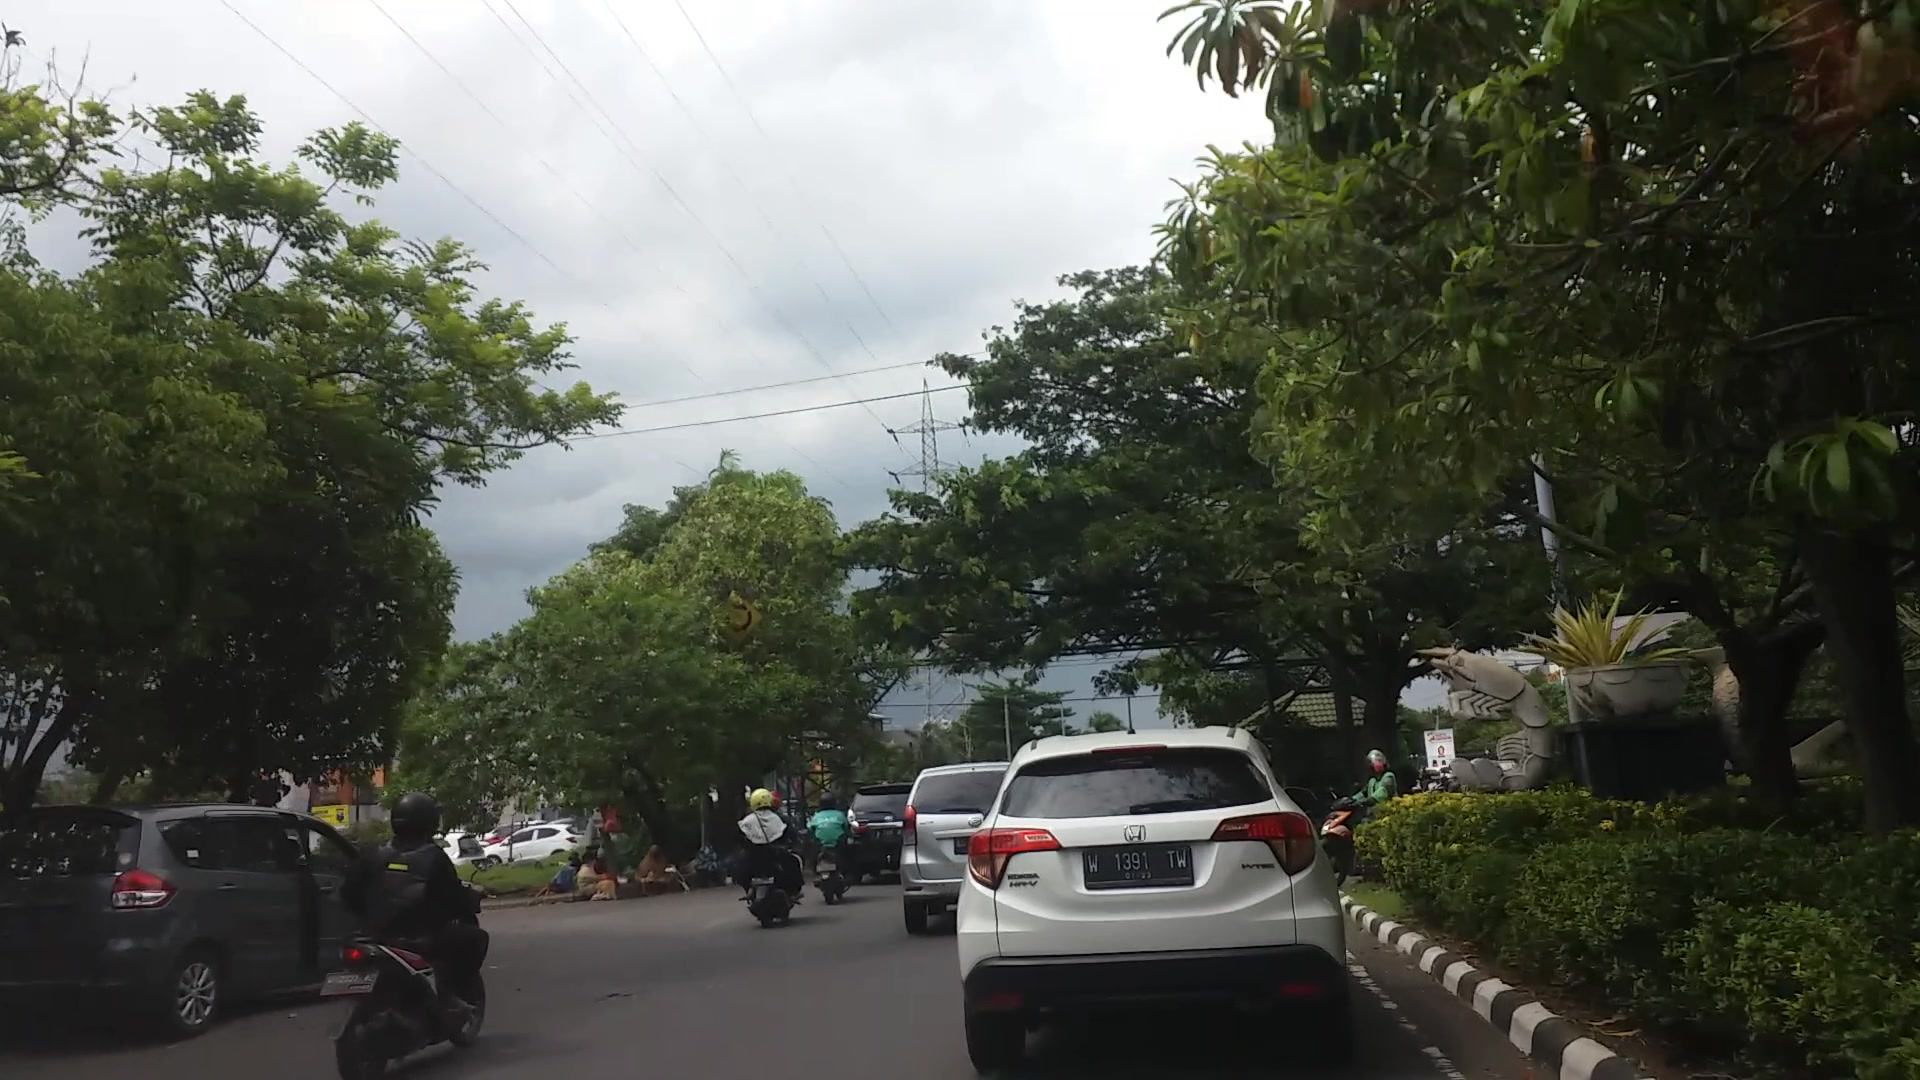plate_positive: (1083, 844, 1193, 887)
